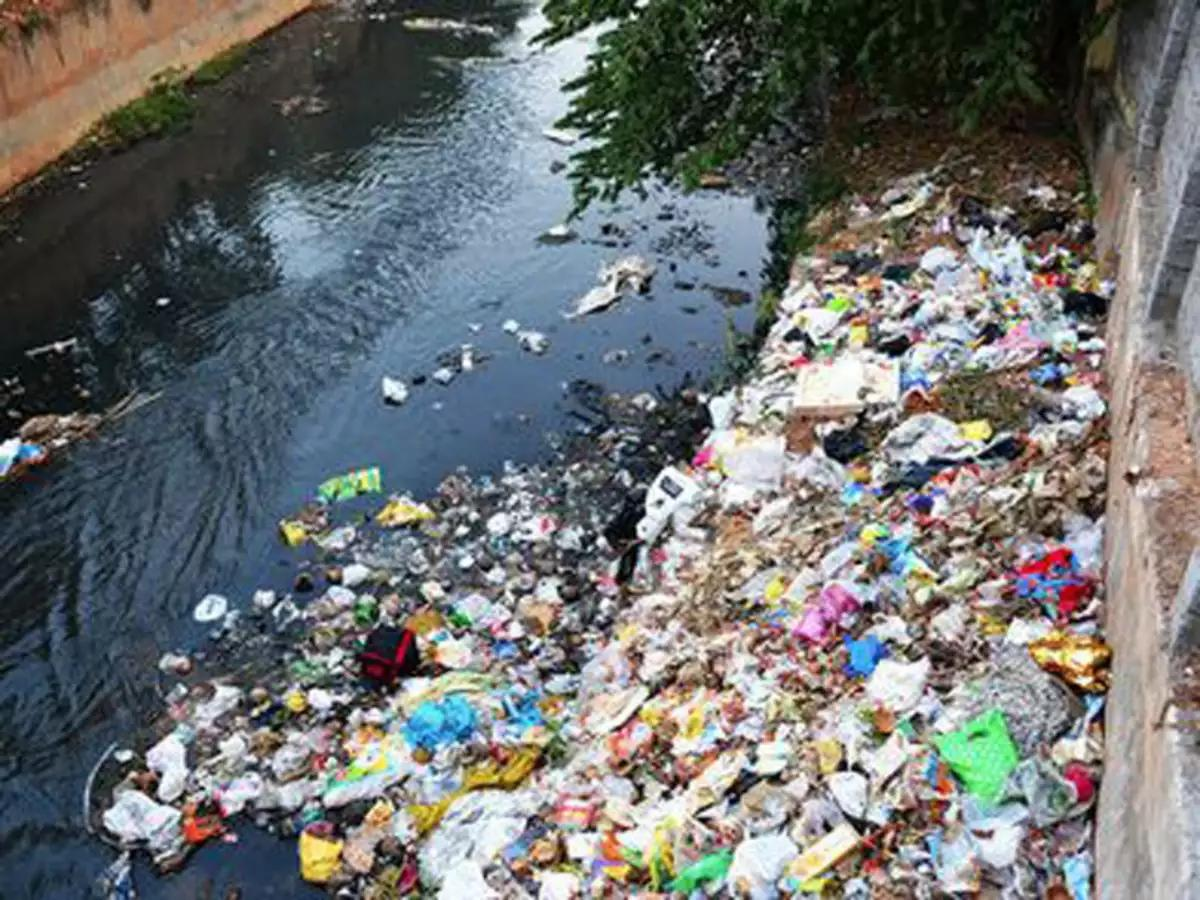garbage: (111, 158, 1200, 900)
